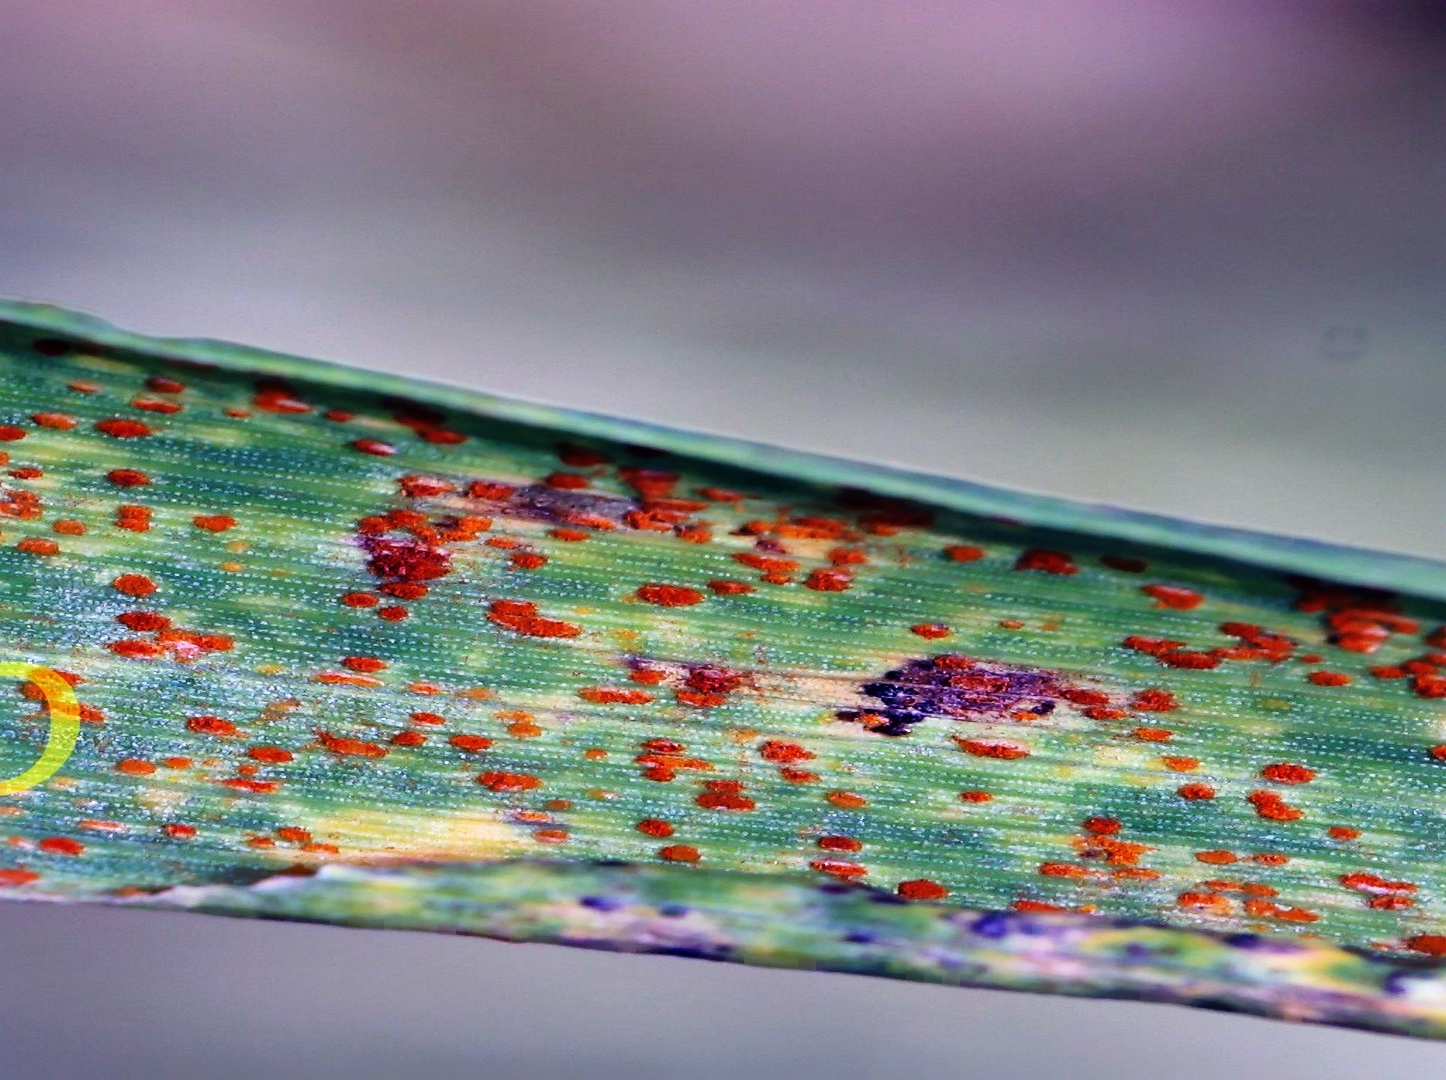Leaf Rust: (71, 402, 1365, 967)
